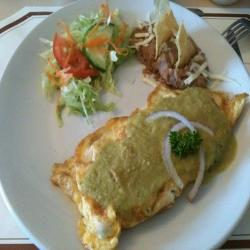omelette: (58, 82, 245, 238)
salad: (48, 16, 132, 108)
